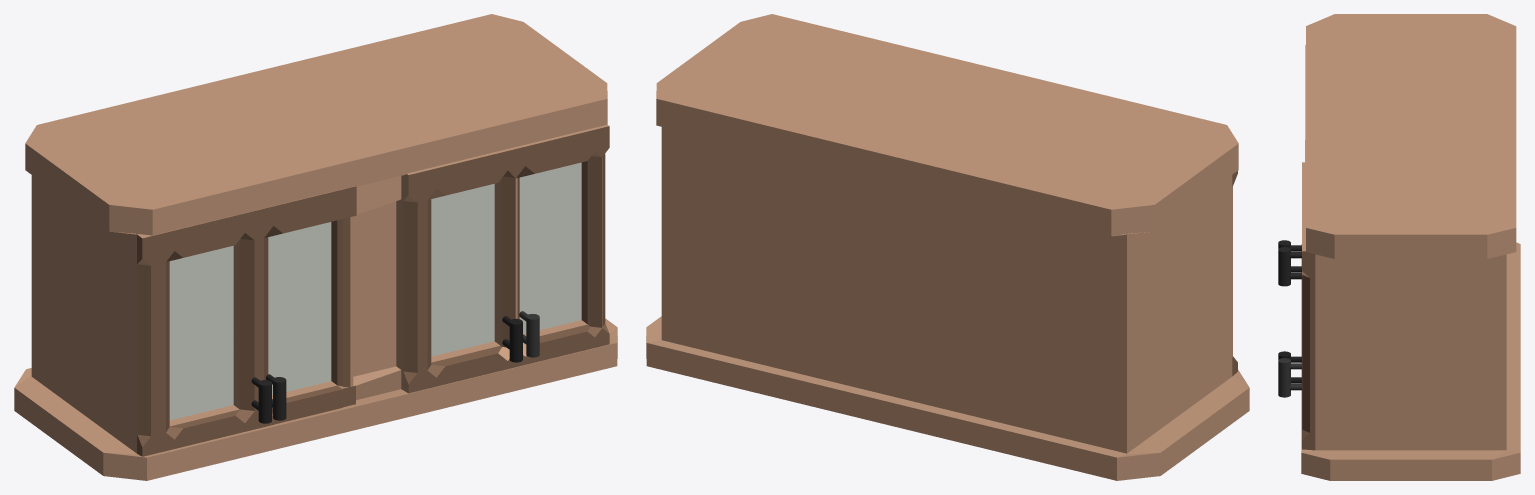
File: Cupboard.fbx
3 renders of one model, left to right at view 1: azimuth 30°, elevation 25°; view 2: azimuth 150°, elevation 25°; view 3: azimuth 270°, elevation 25°, orthographic. The views are drawn at different scales.
Visible parts, largest first — view 1: Cube; view 2: Cube; view 3: Cube.
Part boxes in pixels (box(x1,y1,x2,y2)): Cube: box(14, 14, 617, 480); Cube: box(646, 14, 1249, 480); Cube: box(1278, 14, 1520, 480).
Bounding box in the file's own units: 1.53 × 0.7598 × 0.6879.
